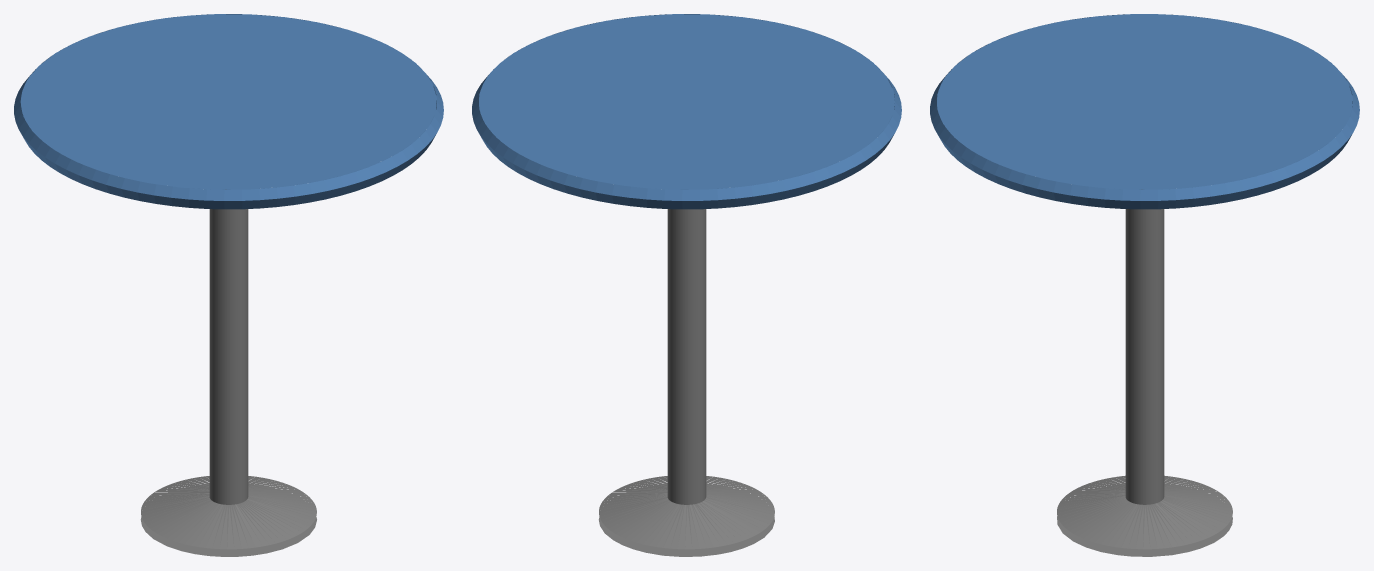
The model's file is roundtable.glb.
3 renders of one model, left to right at view 1: azimuth 30°, elevation 25°; view 2: azimuth 150°, elevation 25°; view 3: azimuth 270°, elevation 25°, orthographic.
Parts seen in each view (by area): view 1: Cylinder.014; view 2: Cylinder.014; view 3: Cylinder.014.
Part boxes in pixels (<box>): Cylinder.014: <box>14,14,443,556</box>; Cylinder.014: <box>472,14,901,556</box>; Cylinder.014: <box>930,14,1359,556</box>.
Size of the model in its own units: 3.31 by 3.55 by 3.31.
